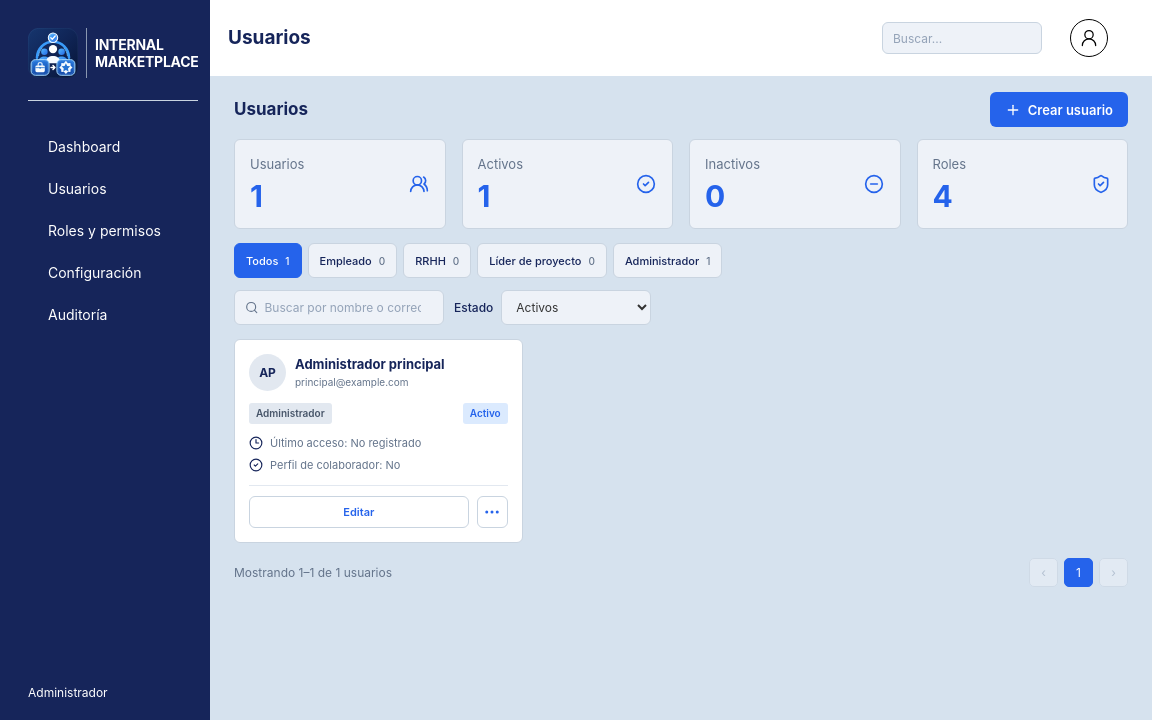
Test case: proteger al último administrador activo desde la interfaz › impide seleccionar la desactivación si solo queda uno
The width and height of the screenshot is (1152, 720).
Click the button named "Opciones para Administrador principal" at (492, 512), box [477,496,508,528]
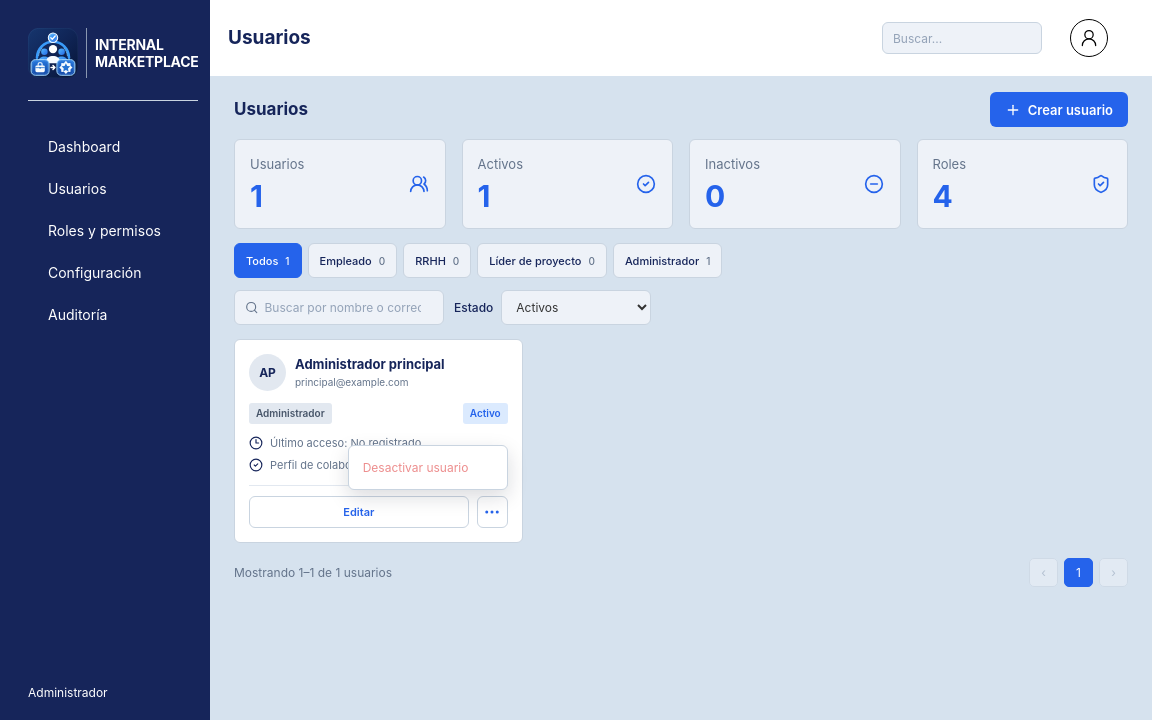
Now the button "Desactivar usuario" is disabled, box [354,451,502,484]
